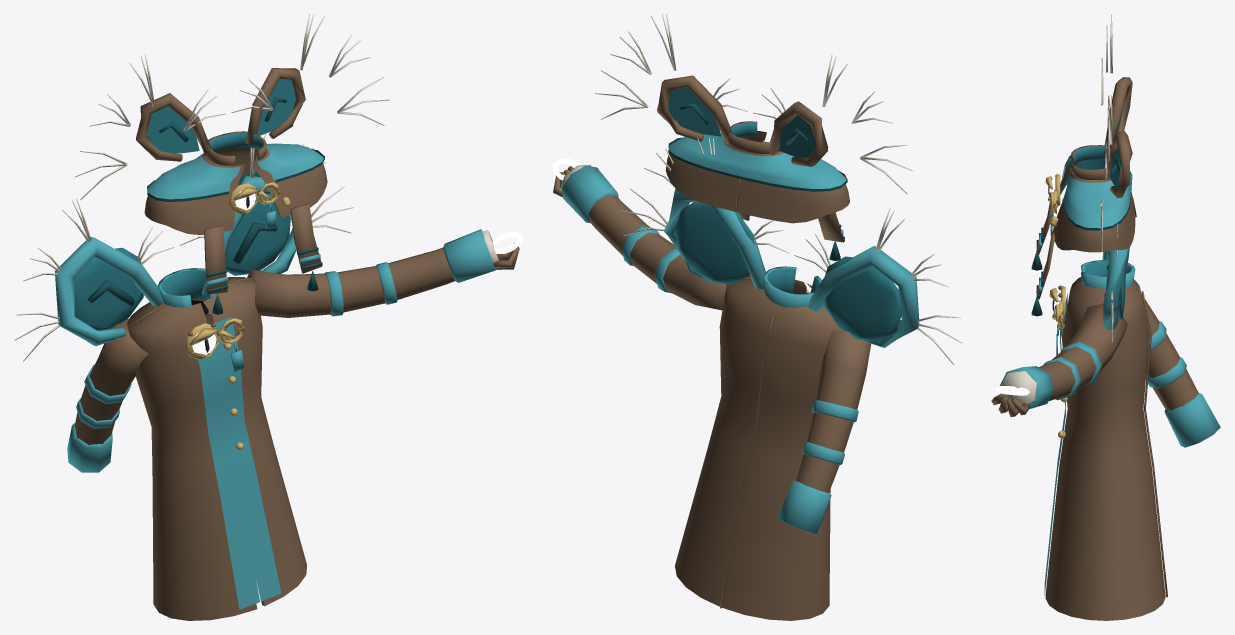
File: coat-warning-tug.glb
3 views of the same model, side by side, from view 1: azimuth 30°, elevation 25°; view 2: azimuth 150°, elevation 25°; view 3: azimuth 270°, elevation 25° (orthographic). The views are drawn at different scales.
Visible parts, largest first — view 1: coat-warning-tug, coat-warning-tug_worn; view 2: coat-warning-tug, coat-warning-tug_worn; view 3: coat-warning-tug, coat-warning-tug_worn.
Part boxes in pixels (x1,y1,x2,y2): coat-warning-tug: (14,133,523,620); coat-warning-tug_worn: (75,14,389,294); coat-warning-tug: (552,137,962,620); coat-warning-tug_worn: (595,14,912,242); coat-warning-tug: (991,171,1220,620); coat-warning-tug_worn: (1036,14,1136,299).
Size of the model in its own units: 2.19 by 2.57 by 0.9697.
